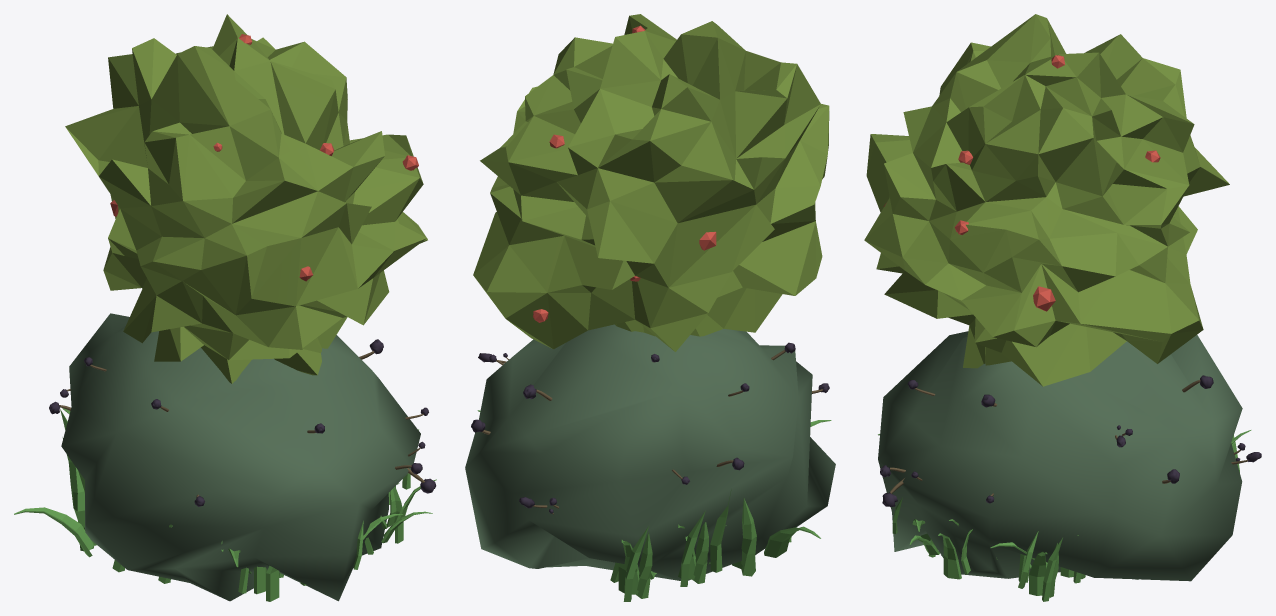
The model's file is Holly.fbx.
3 renders of one model, left to right at view 1: azimuth 30°, elevation 25°; view 2: azimuth 150°, elevation 25°; view 3: azimuth 270°, elevation 25°, orthographic. The views are drawn at different scales.
Visible parts, largest first — view 1: pCylinder2, Bramble, group7_pasted__group5_pasted__pasted__group2_pasted__pa_1873; view 2: pCylinder2, Bramble, group7_pasted__group5_pasted__pasted__group2_pasted__pa_1873; view 3: pCylinder2, Bramble, group7_pasted__group5_pasted__pasted__group2_pasted__pa_1873.
Boxes of the visible parts, left/top/right/bottom form: pCylinder2: left=65, top=14, right=427, bottom=383; Bramble: left=49, top=313, right=436, bottom=601; group7_pasted__group5_pasted__pasted__group2_pasted__pa_1873: left=14, top=408, right=436, bottom=601; pCylinder2: left=473, top=14, right=829, bottom=351; Bramble: left=465, top=324, right=835, bottom=580; group7_pasted__group5_pasted__pasted__group2_pasted__pa_1873: left=477, top=410, right=831, bottom=601; pCylinder2: left=864, top=14, right=1229, bottom=386; Bramble: left=878, top=331, right=1261, bottom=581; group7_pasted__group5_pasted__pasted__group2_pasted__pa_1873: left=878, top=430, right=1251, bottom=601.
Bounding box in the file's own units: 123 × 165 × 116.
